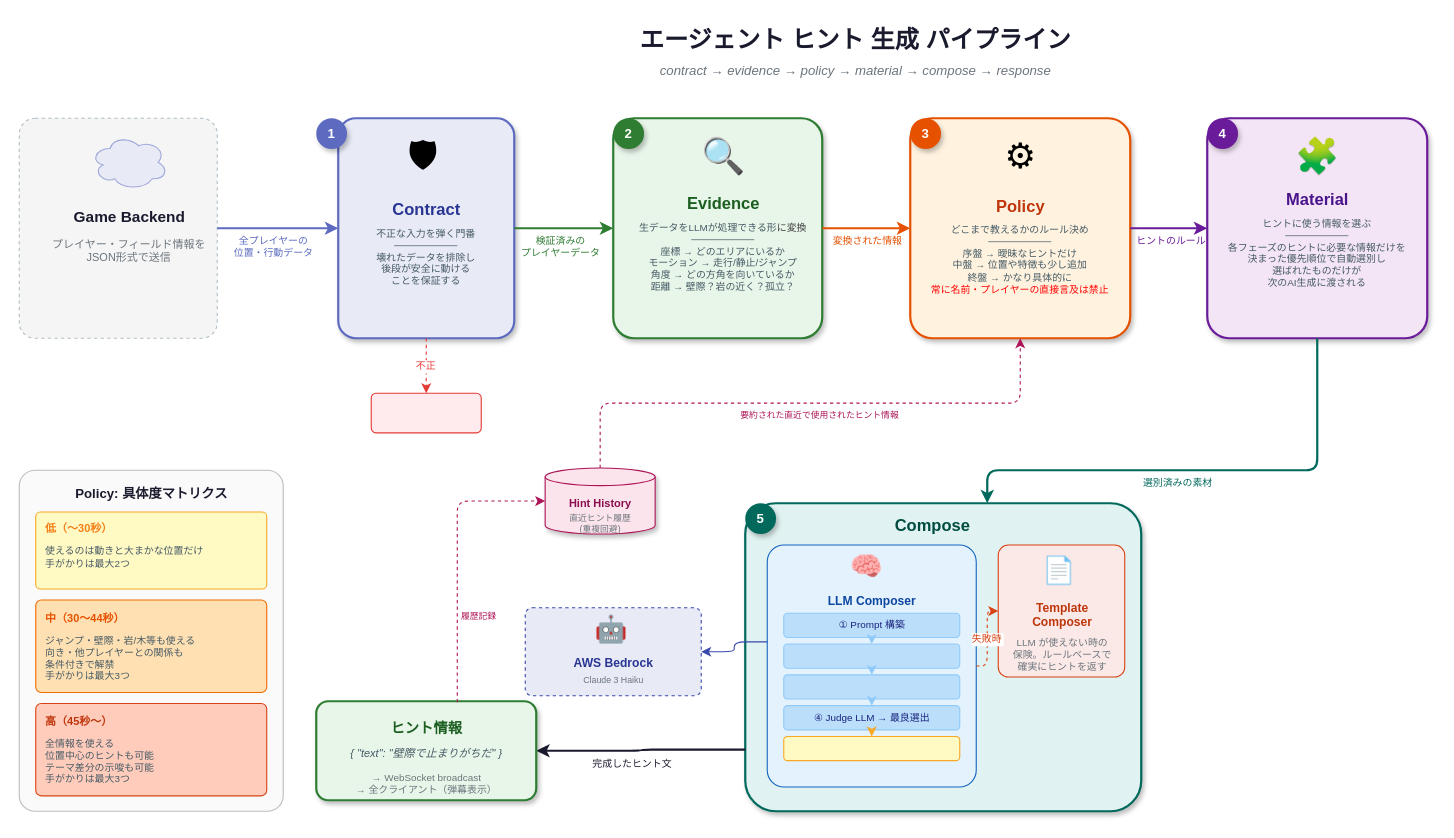
This 1454x838 diagram has some shape labels left out. The shapes that lost their labels are listed below. From the top down, each one's centre as x and y in pixels, then its label:
At (425,412): "400 Bad Request".
At (871,655): "② LLM 呼出 → 3候補生成".
At (871,686): "③ Validate + Score".
At (871,748): "⑤ 失敗時 → Repair Retry".
